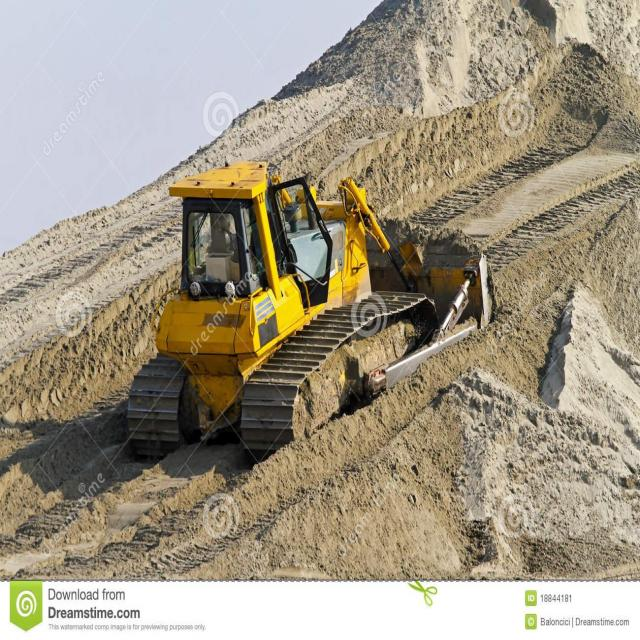Bulldozer: (120, 150, 508, 468)
